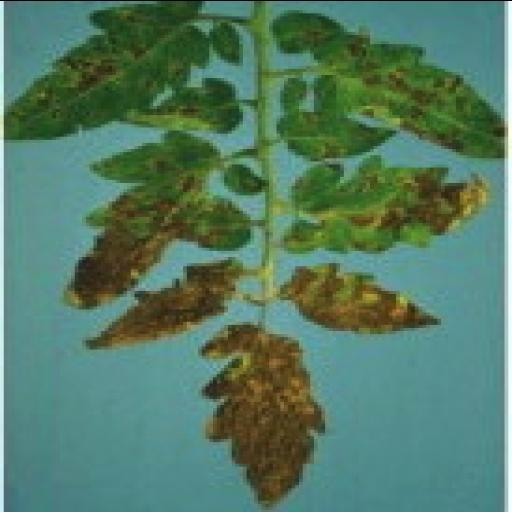disease_tomato: (312, 12, 504, 166), (3, 0, 209, 142), (280, 154, 490, 252), (90, 130, 220, 192), (272, 110, 404, 160)
